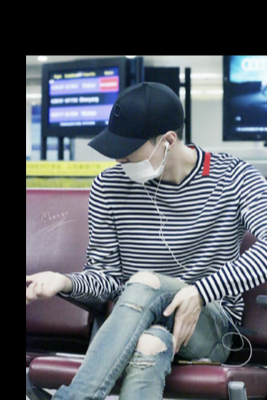mask_weared_incorrect: (116, 139, 164, 186)
